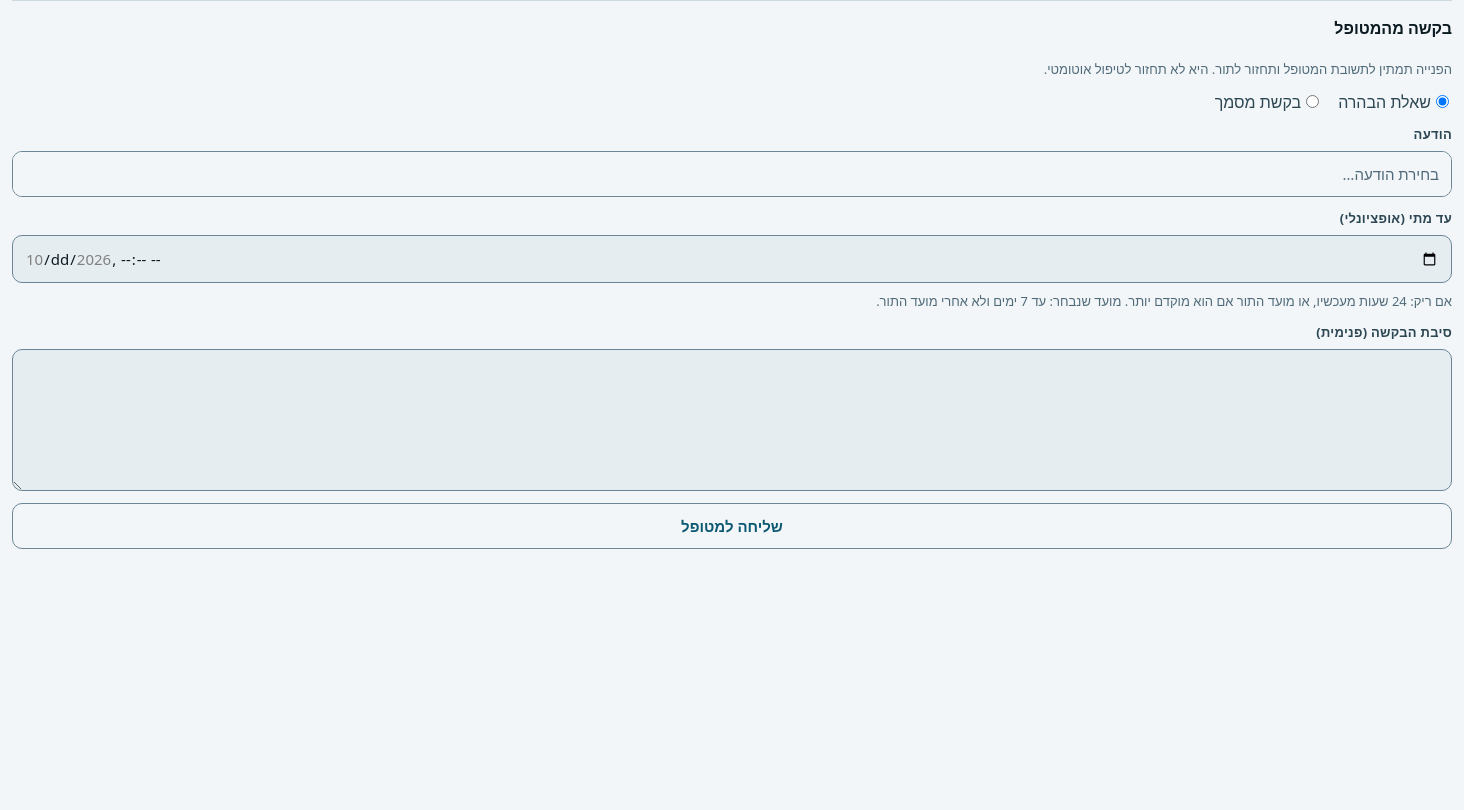
Test: PatientRequest › requires a reason before sending
Select "לא הצלחנו להבין" in the dropdown labelled "הודעה" at (732, 174), box x1=13 y1=152 x2=1451 y2=196
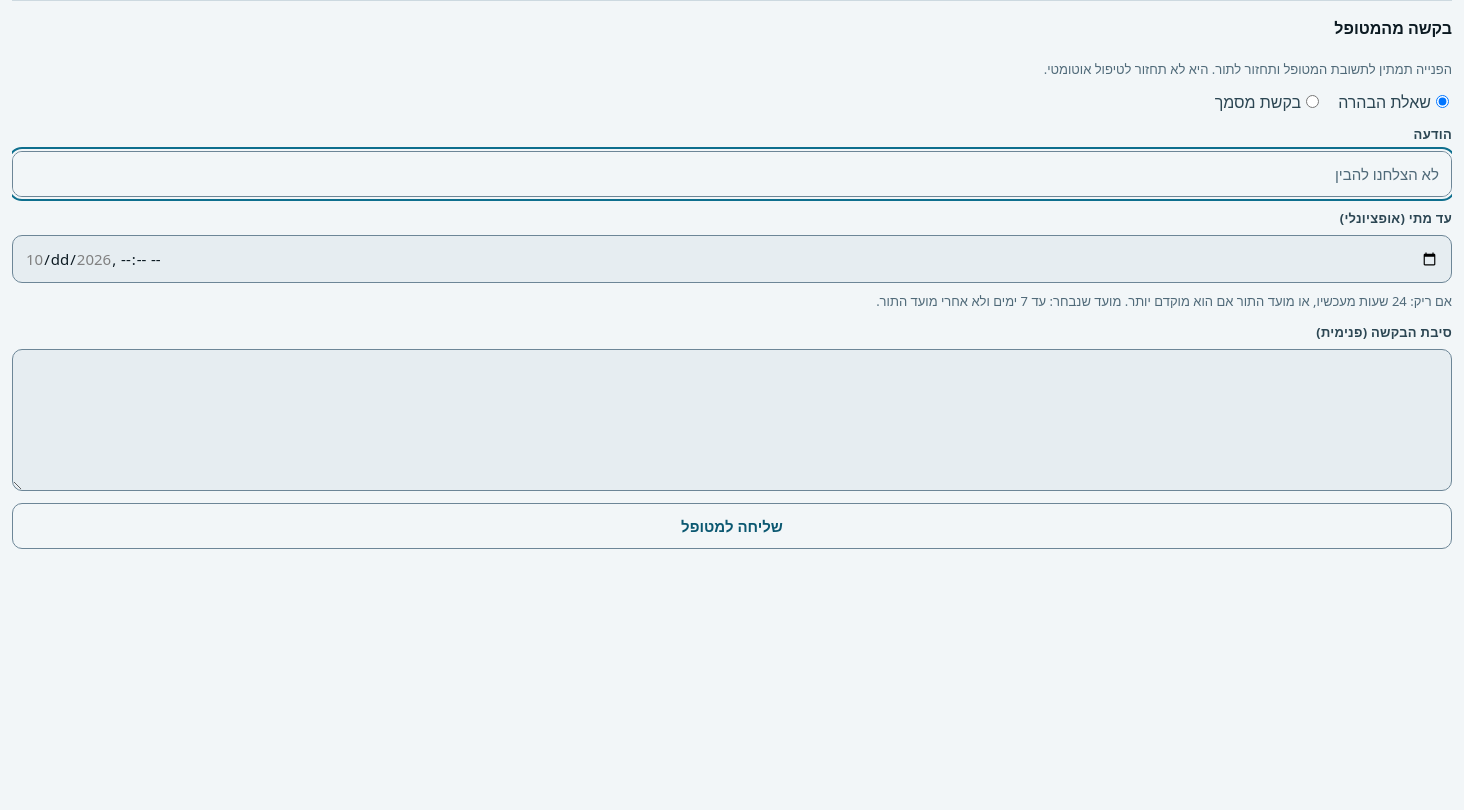
Click the button "שליחה למטופל" at (732, 526), box x1=12 y1=503 x2=1452 y2=549
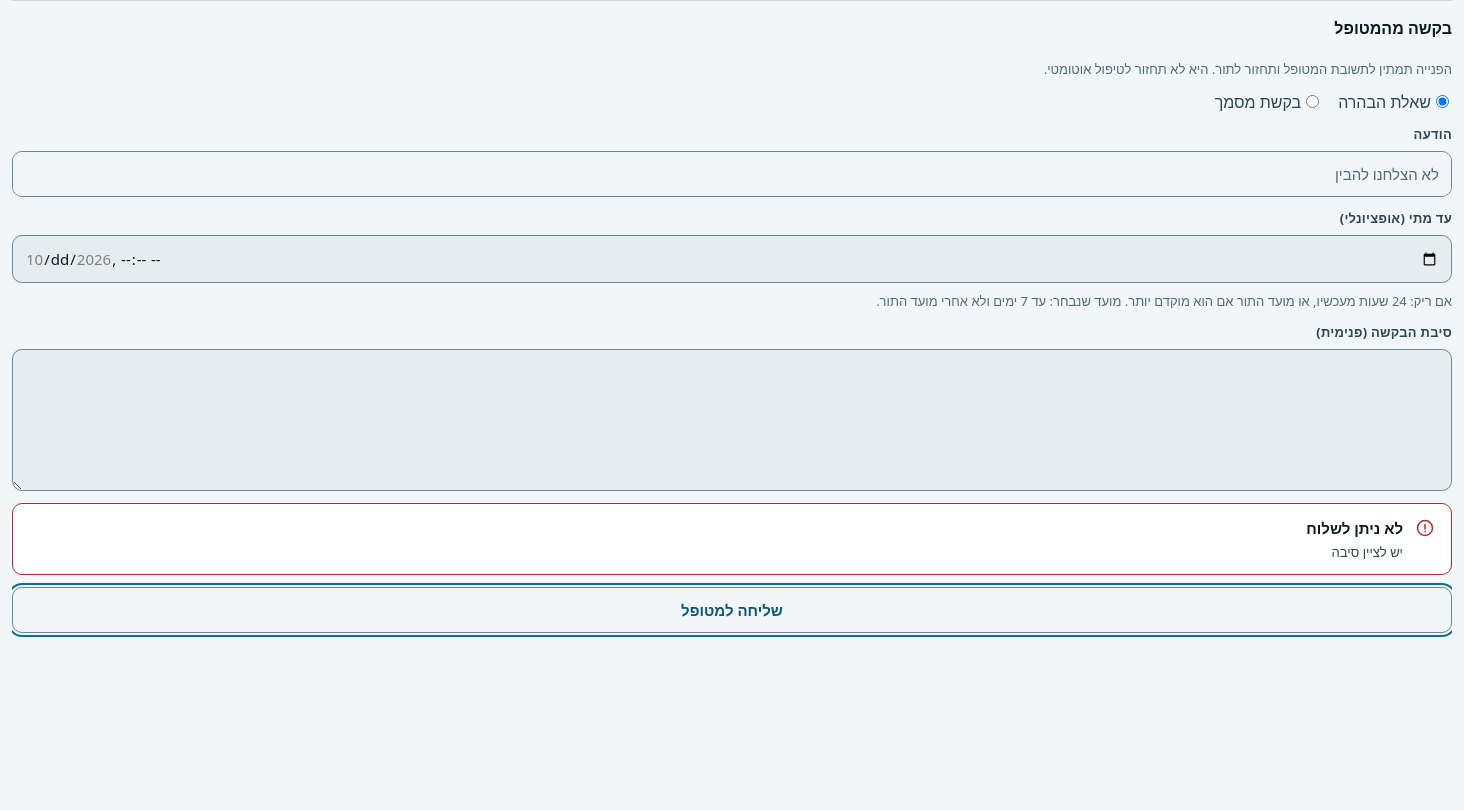
Now the text "יש לציין סיבה" is shown, box x1=1332 y1=543 x2=1403 y2=561
